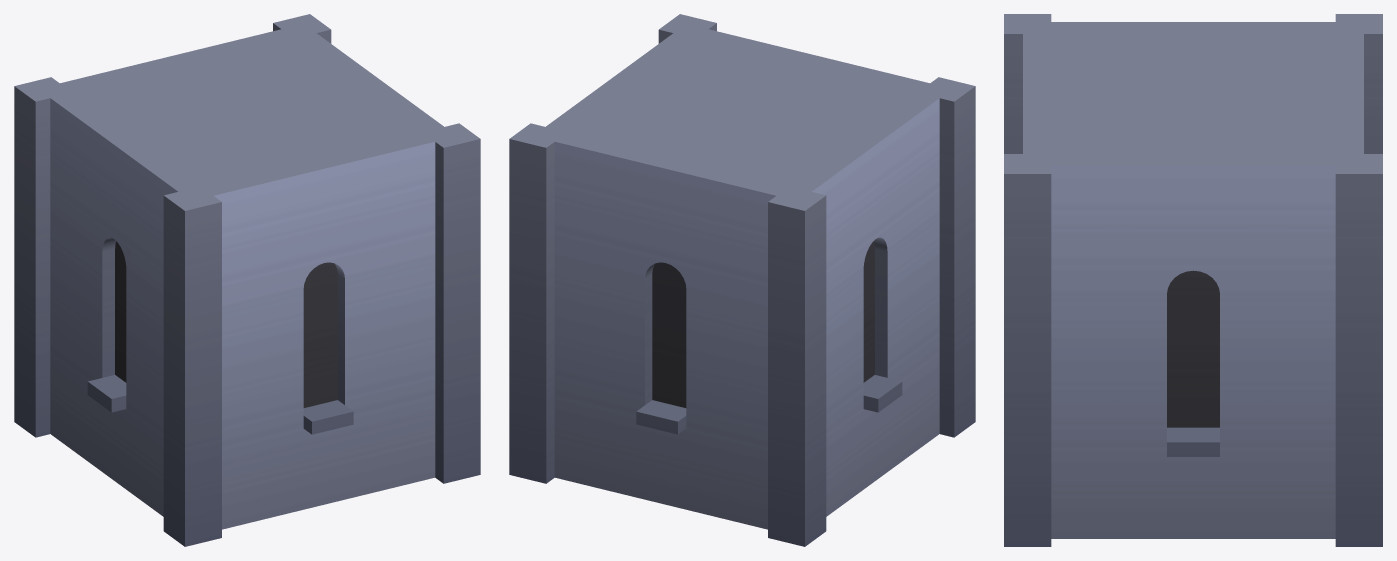
Rendered from tower-square-mid-windows.fbx.
3 renders of one model, left to right at view 1: azimuth 30°, elevation 25°; view 2: azimuth 150°, elevation 25°; view 3: azimuth 270°, elevation 25°, orthographic. The views are drawn at different scales.
Parts seen in each view (by area): view 1: tower-square-mid-windows; view 2: tower-square-mid-windows; view 3: tower-square-mid-windows.
Boxes of the visible parts, left/top/right/bottom form: tower-square-mid-windows: left=14, top=14, right=480, bottom=546; tower-square-mid-windows: left=509, top=14, right=975, bottom=546; tower-square-mid-windows: left=1004, top=14, right=1382, bottom=546.
Bounding box in the file's own units: 0.93 × 0.93 × 1.01.
